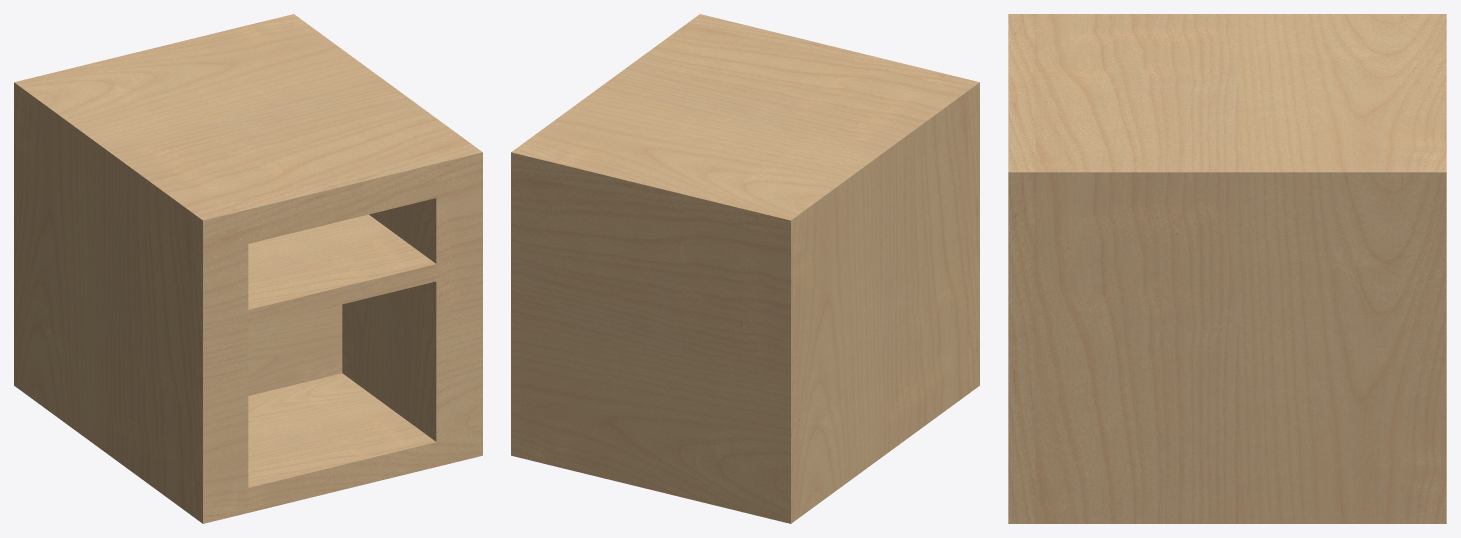
File: cupboard w-out drawers textured.FBX
3 renders of one model, left to right at view 1: azimuth 30°, elevation 25°; view 2: azimuth 150°, elevation 25°; view 3: azimuth 270°, elevation 25°, orthographic. The views are drawn at different scales.
Visible parts, largest first — view 1: Box003; view 2: Box003; view 3: Box003.
Part boxes in pixels (x1,y1,x2,y2): Box003: [14, 14, 482, 523]; Box003: [511, 14, 979, 523]; Box003: [1008, 14, 1446, 523].
Bounding box in the file's own units: 359 × 372 × 420.
1 material, 1 textured.
